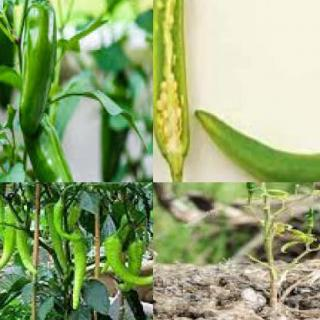green_chilli: (193, 108, 319, 182), (153, 0, 190, 178), (19, 1, 59, 134), (19, 122, 84, 182), (97, 232, 152, 287), (44, 201, 68, 278), (72, 227, 89, 311), (52, 199, 86, 241), (119, 238, 146, 290), (15, 228, 40, 276), (0, 210, 18, 273), (0, 194, 6, 247), (308, 206, 315, 228), (246, 182, 263, 190)
